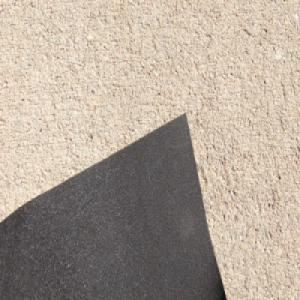PaintChip: (0, 110, 229, 300)
